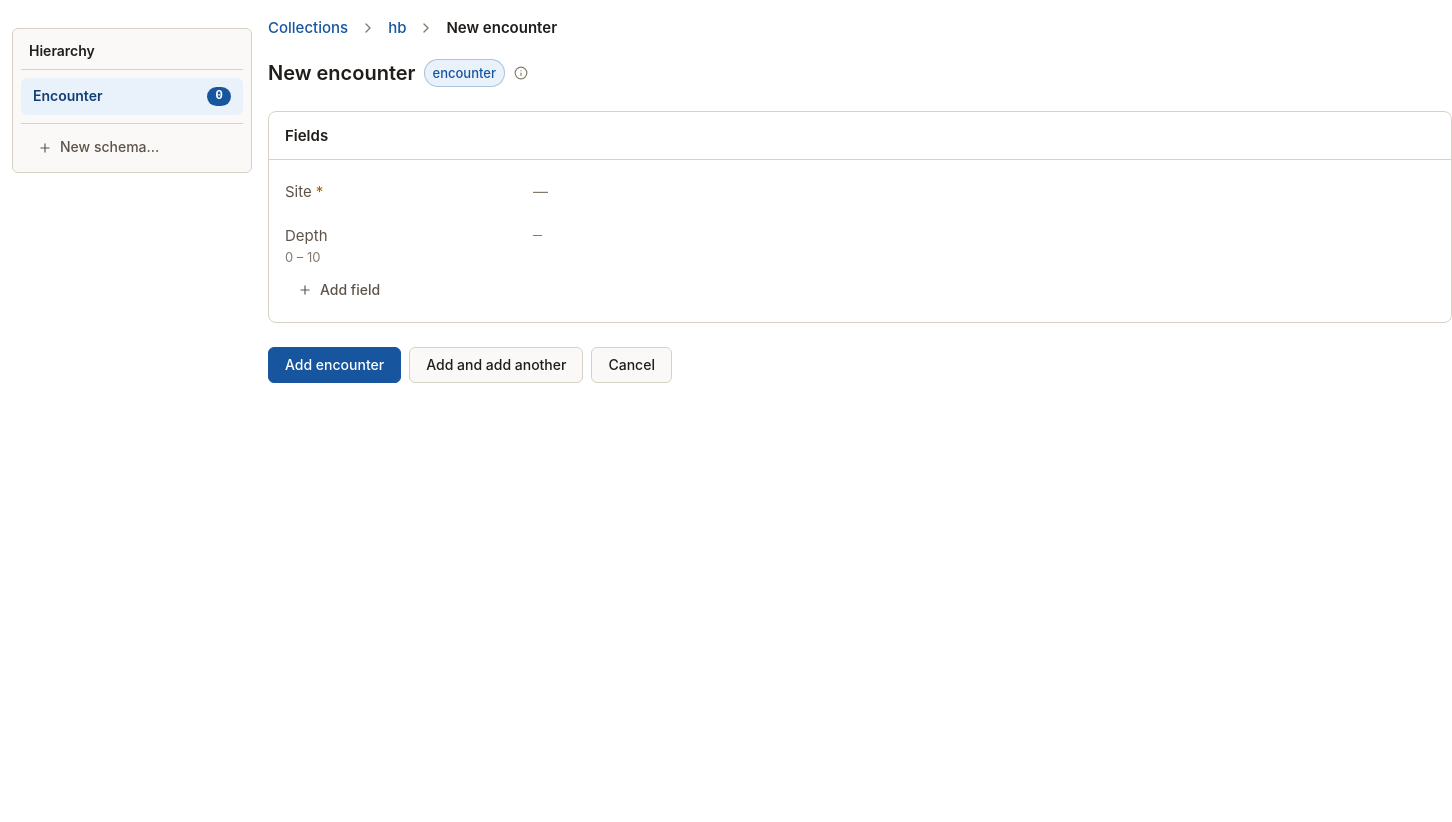
NewRecordPage › Add and add another › saves, stays on a blank form for the next one, and says what was added
The width and height of the screenshot is (1452, 822).
Expected: the text "0 – 10" is shown, [285,249,320,265]
Step 1. Click the button titled "Click to edit" in the row of "Site" → (540,192), box [533,182,548,201]
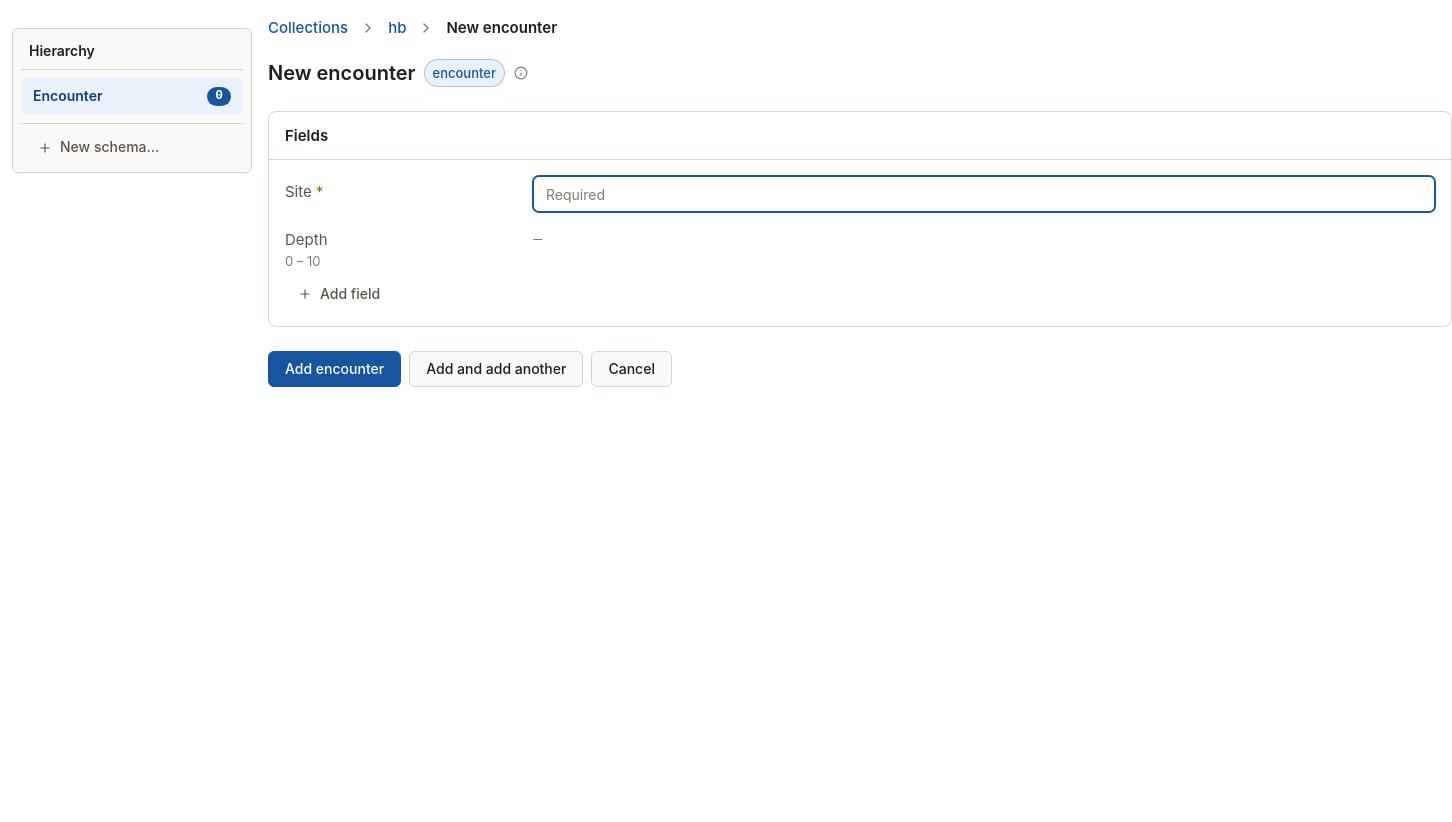
Step 2. Type "Stellwagen" into the field → (984,194), box [533,176,1435,212]
Then press Enter
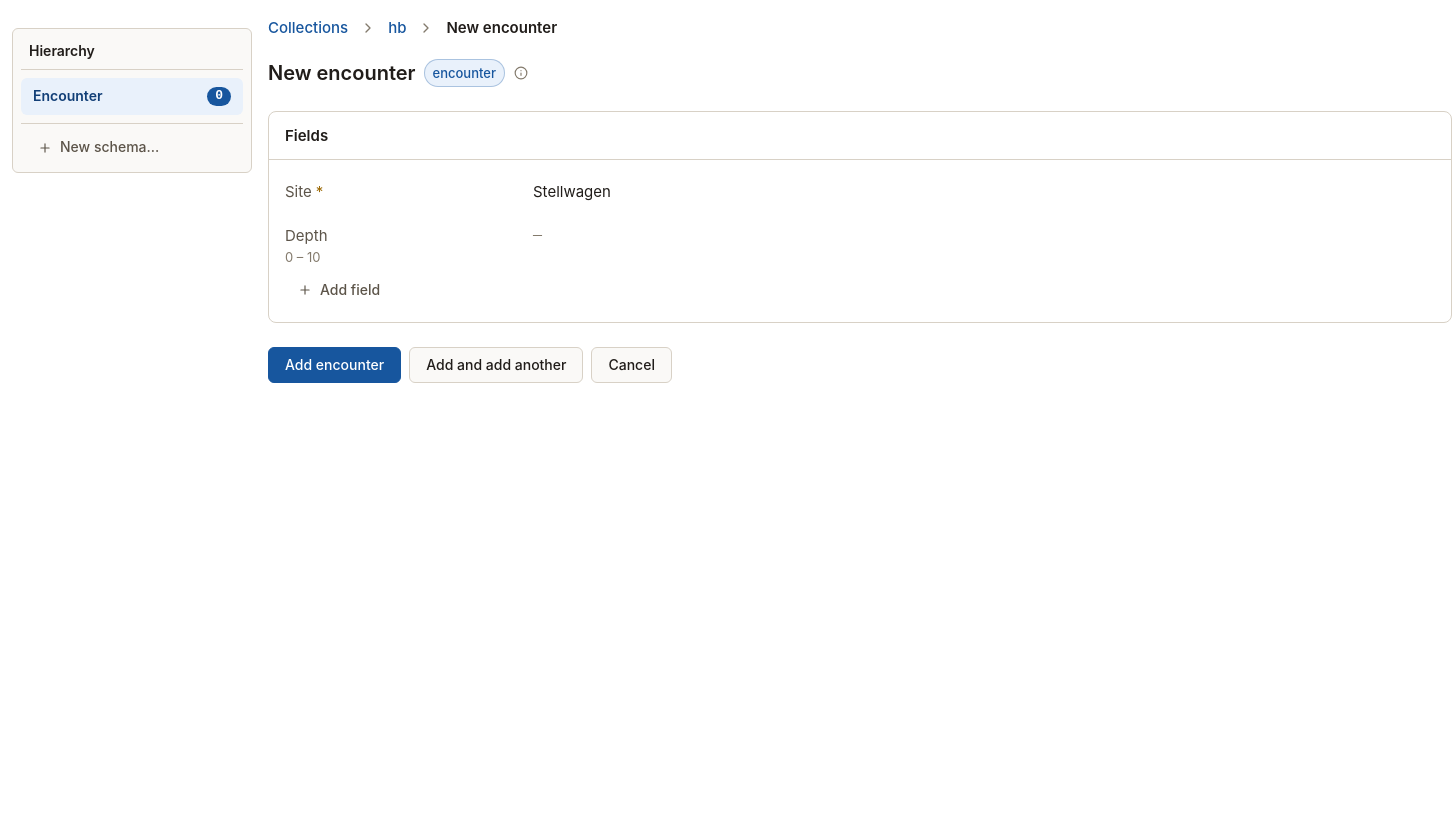
Step 3. Click the button "Add and add another" → (496,365), box [409,347,584,383]
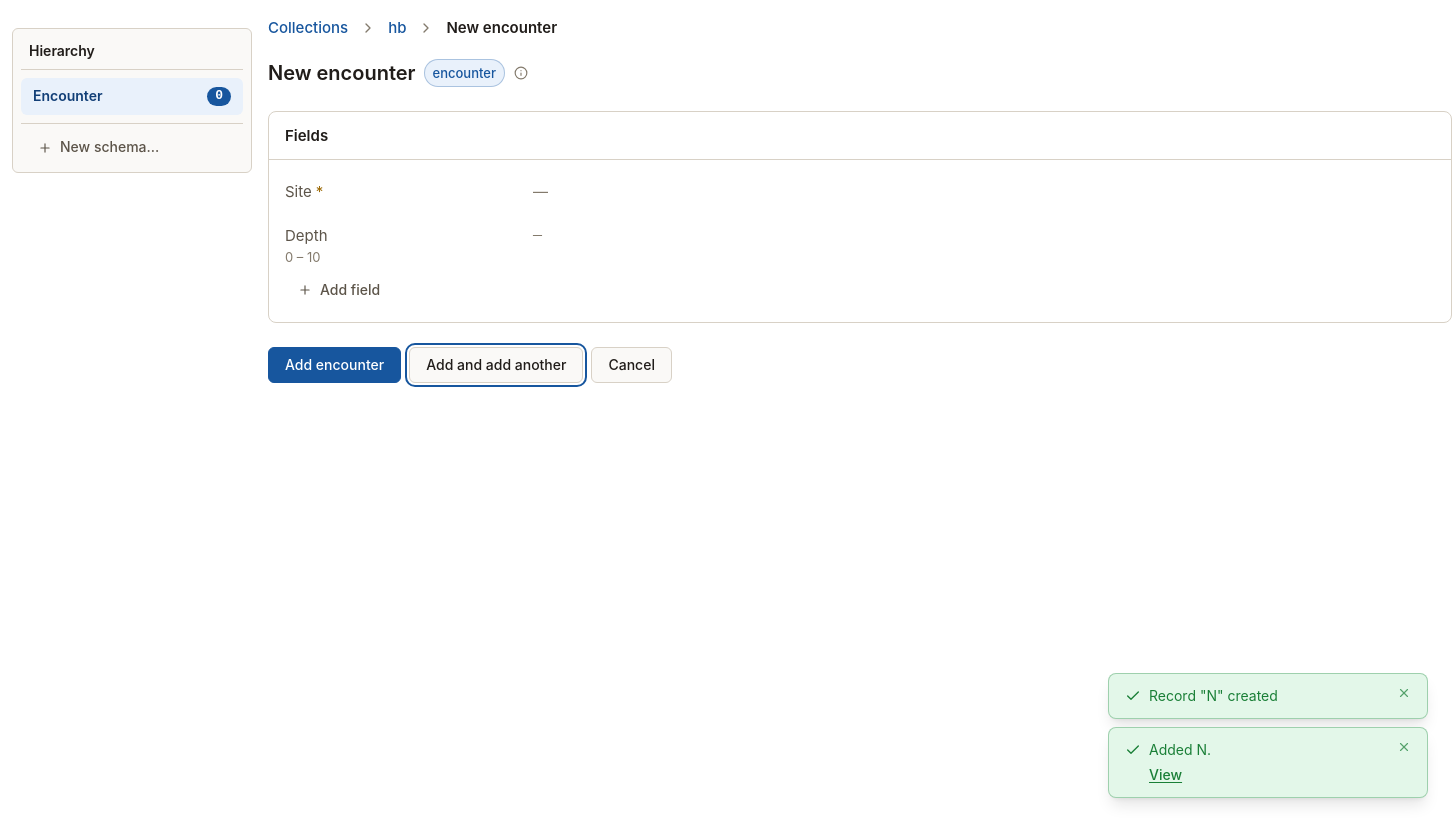
Expected: the text "record page" is not shown
Expected: the text "Added N." is shown, [1149,741,1211,758]
Expected: the button "Stellwagen" is gone
Step 4. Click the button titled "Click to edit" in the row of "Site" → (540,192), box [533,182,548,201]
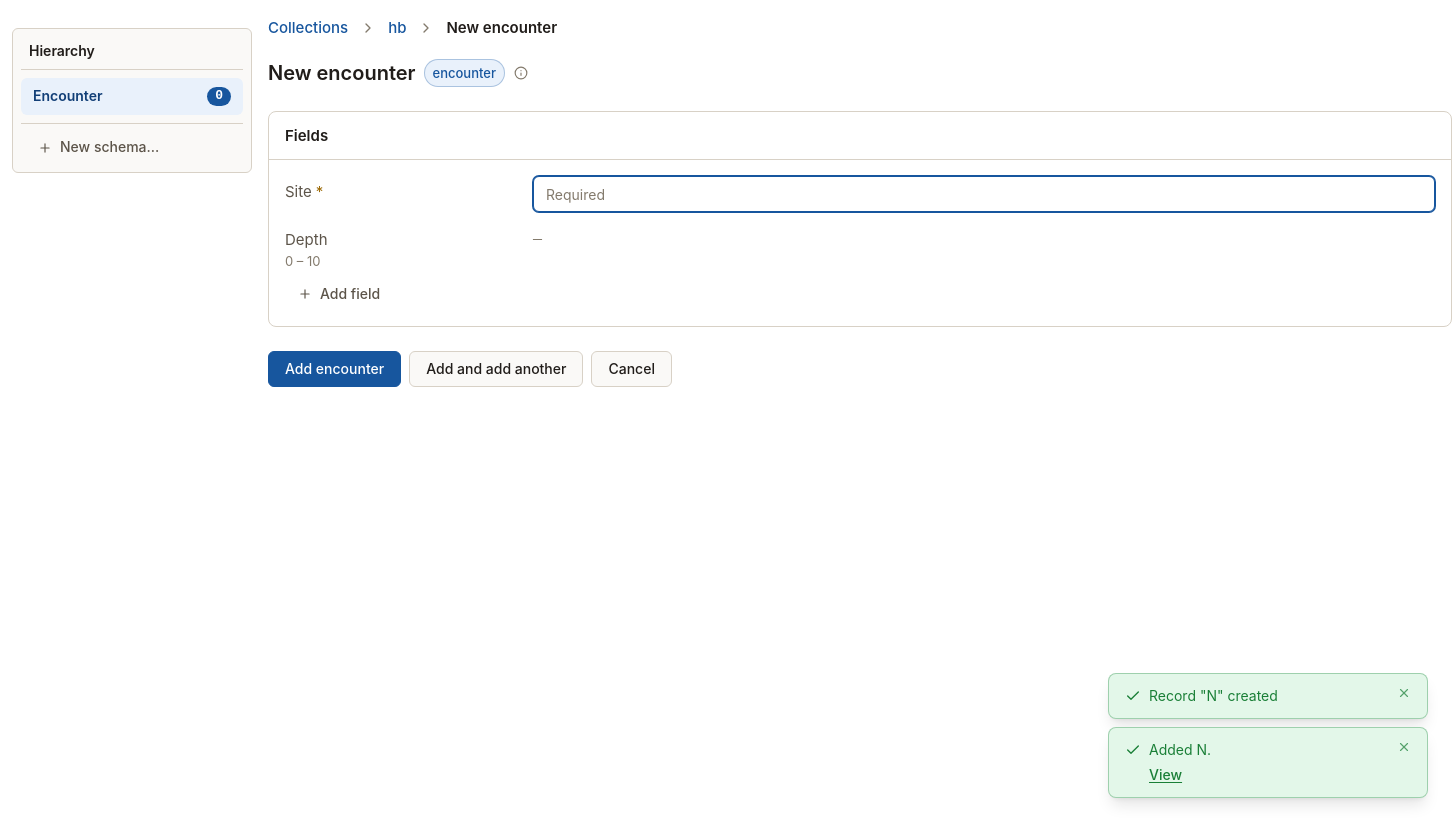
Step 5. Type "Georges" into the field → (984,194), box [533,176,1435,212]
Then press Enter
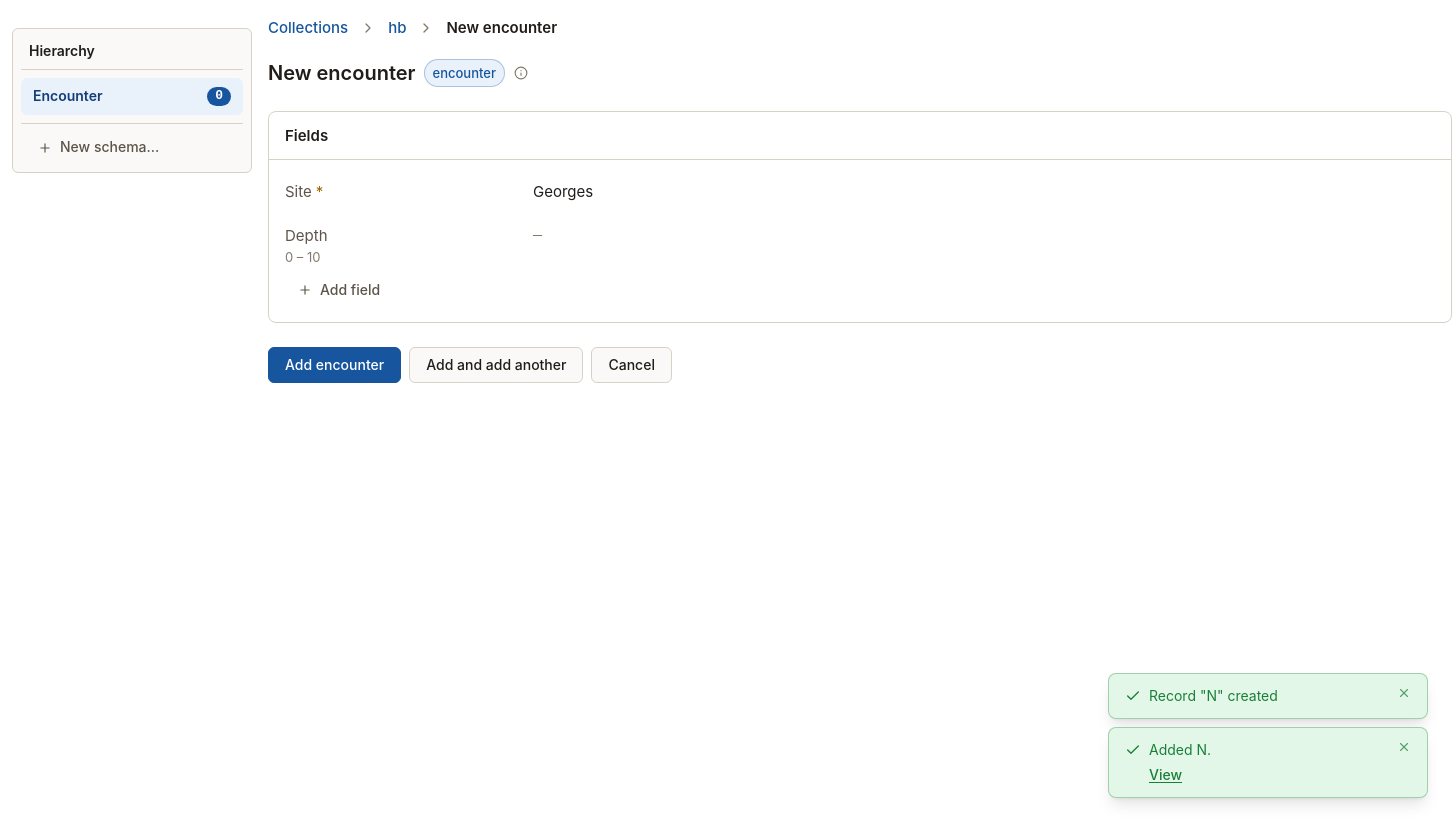
Step 6. Click the button "Add encounter" → (335,365), box [268,347,401,383]
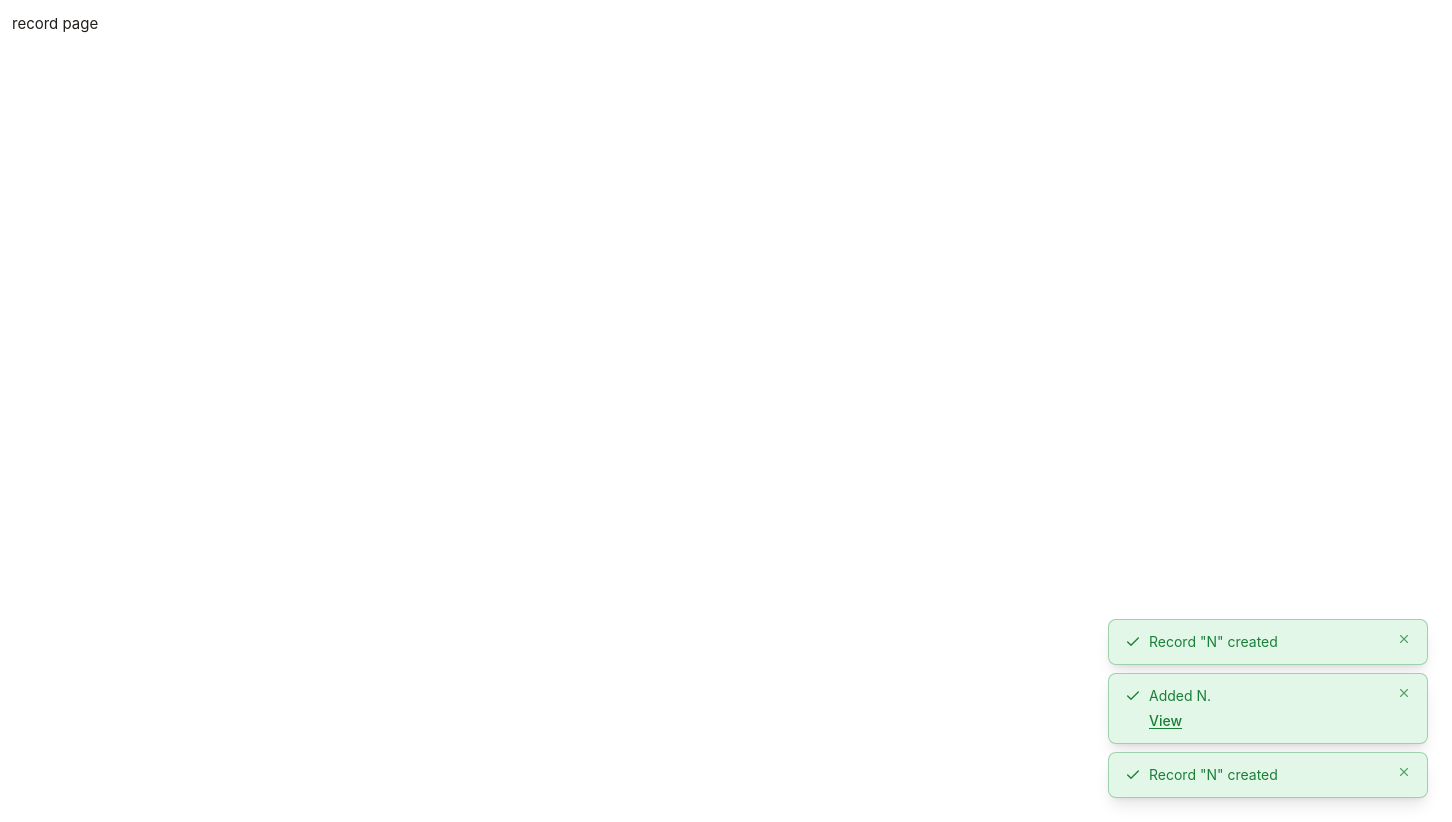
Expected: the text "record page" is shown, [12,14,98,33]
